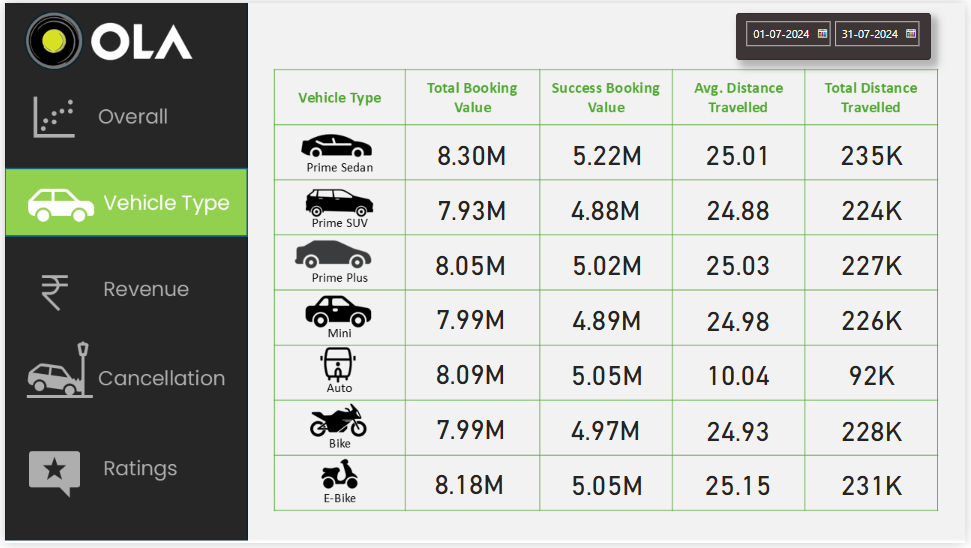

The dashboard page shown, as its layout file describes it:
{"tool":"powerbi","page":{"name":"Vehicle Type","canvas":[1280,720],"ordinal":1},"visuals":[{"type":"actionButton","box":[0,107.5,323.8,92.5],"z":0},{"type":"actionButton","box":[0,342.5,323.8,92.5],"z":1000},{"type":"actionButton","box":[0,445,323.8,92.5],"z":2000},{"type":"actionButton","box":[0,577.5,323.8,92.5],"z":3000},{"type":"card","fields":{"Values":["Sum(July.Booking_Value)"]},"box":[535.1,163.5,174.3,73],"z":4000},{"type":"card","fields":{"Values":["Sum(July.Booking_Value)"]},"box":[535.1,236.5,174.3,73],"z":5000},{"type":"card","fields":{"Values":["Sum(July.Booking_Value)"]},"box":[533.8,309.5,174.3,73],"z":6000},{"type":"card","fields":{"Values":["Sum(July.Booking_Value)"]},"box":[533.8,382.4,174.3,73],"z":7000},{"type":"card","fields":{"Values":["Sum(July.Booking_Value)"]},"box":[533.8,455.4,174.3,73],"z":8000},{"type":"card","fields":{"Values":["Sum(July.Booking_Value)"]},"box":[533.8,528.4,174.3,73],"z":9000},{"type":"card","fields":{"Values":["Sum(July.Booking_Value)"]},"box":[532.4,601.4,174.3,73],"z":10000},{"type":"card","fields":{"Values":["Sum(July.Booking_Value)"]},"box":[714.9,163.5,174.3,73],"z":11000},{"type":"card","fields":{"Values":["Sum(July.Booking_Value)"]},"box":[713.5,236.5,174.3,73],"z":12000},{"type":"card","fields":{"Values":["Sum(July.Booking_Value)"]},"box":[714.9,383.8,174.3,73],"z":13000},{"type":"card","fields":{"Values":["Sum(July.Booking_Value)"]},"box":[714.9,456.8,174.3,73],"z":14000},{"type":"card","fields":{"Values":["Sum(July.Booking_Value)"]},"box":[713.5,529.7,174.3,73],"z":15000},{"type":"card","fields":{"Values":["Sum(July.Booking_Value)"]},"box":[714.9,604.1,174.3,73],"z":16000},{"type":"card","fields":{"Values":["Sum(July.Booking_Value)"]},"box":[714.9,309.5,174.3,73],"z":17000},{"type":"card","fields":{"Values":["Avg(July.Ride_Distance)"]},"box":[890.5,163.5,174.3,73],"z":18000},{"type":"card","fields":{"Values":["Avg(July.Ride_Distance)"]},"box":[890.5,236.5,174.3,73],"z":19000},{"type":"card","fields":{"Values":["Avg(July.Ride_Distance)"]},"box":[890.5,310.8,174.3,73],"z":20000},{"type":"card","fields":{"Values":["Avg(July.Ride_Distance)"]},"box":[890.5,385.1,174.3,73],"z":21000},{"type":"card","fields":{"Values":["Avg(July.Ride_Distance)"]},"box":[890.5,456.8,174.3,73],"z":22000},{"type":"card","fields":{"Values":["Avg(July.Ride_Distance)"]},"box":[890.5,531.1,174.3,73],"z":23000},{"type":"card","fields":{"Values":["Avg(July.Ride_Distance)"]},"box":[890.5,604.1,174.3,73],"z":24000},{"type":"card","fields":{"Values":["Sum(July.Ride_Distance)"]},"box":[1067.6,163.5,174.3,73],"z":25000},{"type":"card","fields":{"Values":["Sum(July.Ride_Distance)"]},"box":[1067.6,236.5,174.3,73],"z":26000},{"type":"card","fields":{"Values":["Sum(July.Ride_Distance)"]},"box":[1067.6,309.5,174.3,73],"z":27000},{"type":"card","fields":{"Values":["Sum(July.Ride_Distance)"]},"box":[1067.6,383.8,174.3,73],"z":28000},{"type":"card","fields":{"Values":["Sum(July.Ride_Distance)"]},"box":[1067.6,456.8,174.3,73],"z":29000},{"type":"card","fields":{"Values":["Sum(July.Ride_Distance)"]},"box":[1067.6,531.1,174.3,73],"z":30000},{"type":"card","fields":{"Values":["Sum(July.Ride_Distance)"]},"box":[1067.6,604.1,174.3,73],"z":31000},{"type":"slicer","title":"Date","fields":{"Values":["July.Date"]},"box":[974.3,13.5,259.5,62.2],"z":32000}]}

Visuals, with their boxes on the page's 1280x720 design canvas (x1, y1, x2, y2). These are canvas units, not pixel positions in the 971x548 screenshot, which may show the page scaled, cropped or inside an application window:
actionButton: (0,108,324,200)
actionButton: (0,342,324,435)
actionButton: (0,445,324,538)
actionButton: (0,578,324,670)
card - Sum(July.Booking_Value): (535,164,709,236)
card - Sum(July.Booking_Value): (535,236,709,310)
card - Sum(July.Booking_Value): (534,310,708,382)
card - Sum(July.Booking_Value): (534,382,708,455)
card - Sum(July.Booking_Value): (534,455,708,528)
card - Sum(July.Booking_Value): (534,528,708,601)
card - Sum(July.Booking_Value): (532,601,707,674)
card - Sum(July.Booking_Value): (715,164,889,236)
card - Sum(July.Booking_Value): (714,236,888,310)
card - Sum(July.Booking_Value): (715,384,889,457)
card - Sum(July.Booking_Value): (715,457,889,530)
card - Sum(July.Booking_Value): (714,530,888,603)
card - Sum(July.Booking_Value): (715,604,889,677)
card - Sum(July.Booking_Value): (715,310,889,382)
card - Avg(July.Ride_Distance): (890,164,1065,236)
card - Avg(July.Ride_Distance): (890,236,1065,310)
card - Avg(July.Ride_Distance): (890,311,1065,384)
card - Avg(July.Ride_Distance): (890,385,1065,458)
card - Avg(July.Ride_Distance): (890,457,1065,530)
card - Avg(July.Ride_Distance): (890,531,1065,604)
card - Avg(July.Ride_Distance): (890,604,1065,677)
card - Sum(July.Ride_Distance): (1068,164,1242,236)
card - Sum(July.Ride_Distance): (1068,236,1242,310)
card - Sum(July.Ride_Distance): (1068,310,1242,382)
card - Sum(July.Ride_Distance): (1068,384,1242,457)
card - Sum(July.Ride_Distance): (1068,457,1242,530)
card - Sum(July.Ride_Distance): (1068,531,1242,604)
card - Sum(July.Ride_Distance): (1068,604,1242,677)
"Date" slicer: (974,14,1234,76)
